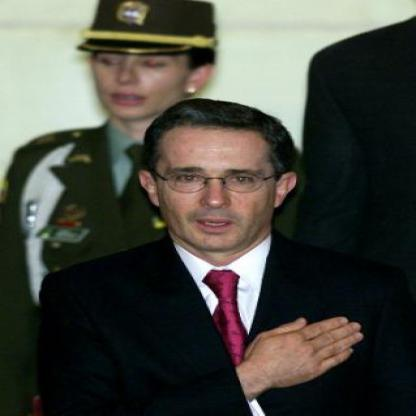face: (156, 106, 281, 252), (87, 2, 191, 119)
